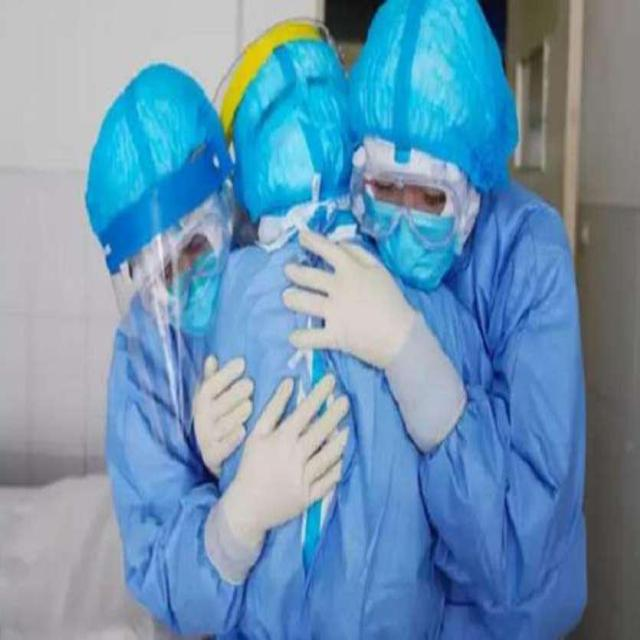Gloves: (295, 202, 418, 408), (212, 377, 348, 552), (177, 360, 261, 442)
